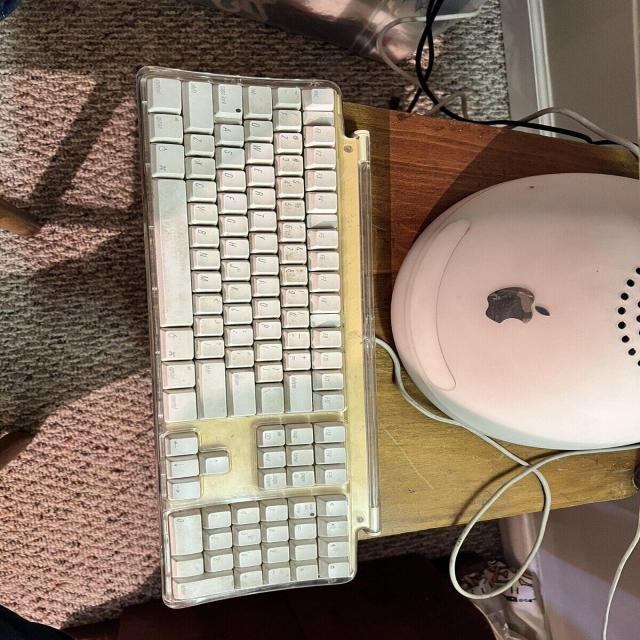keyboard: (145, 65, 360, 609)
